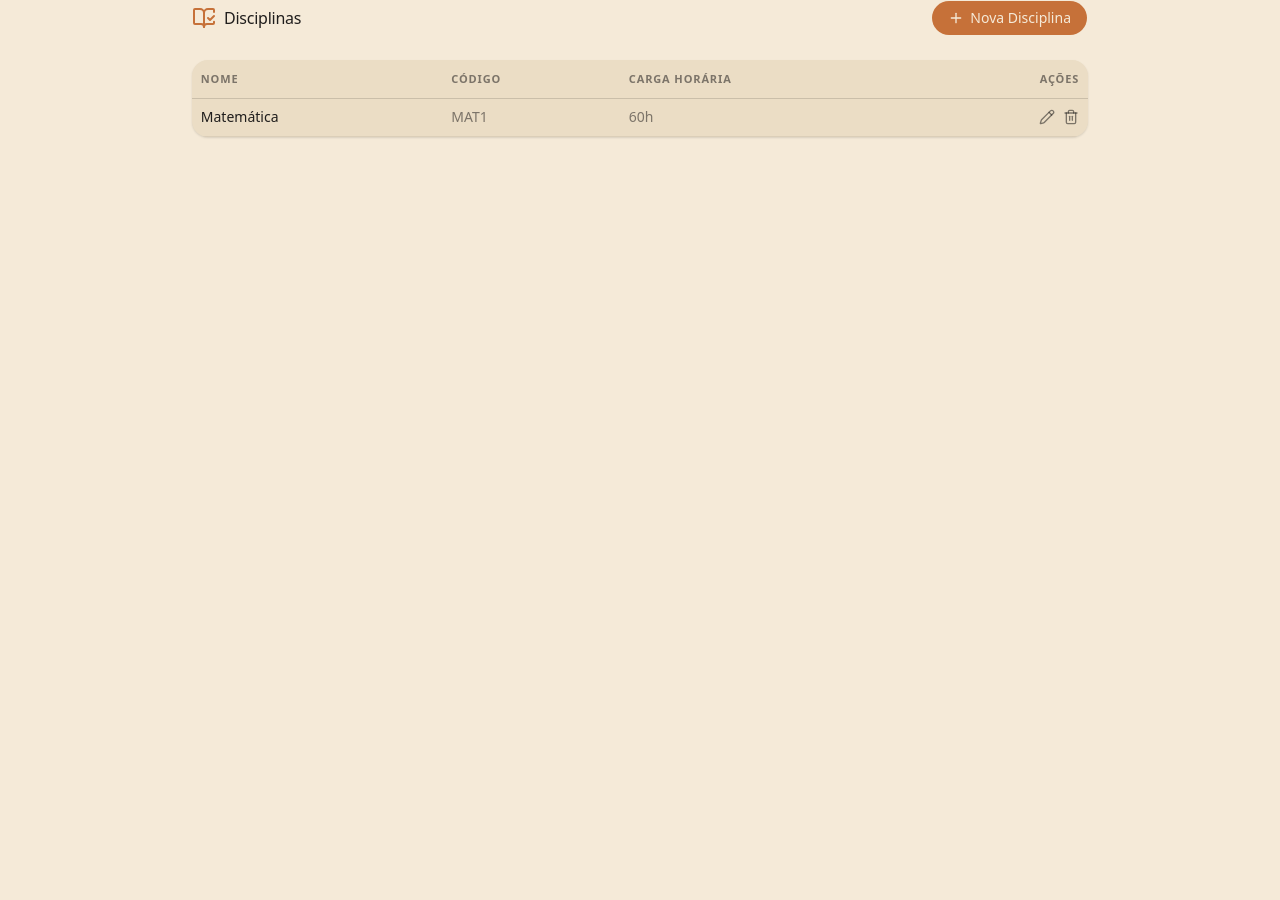
Test: SubjectListPage › keeps the delete dialog open showing why the API refused
Click the button named "Excluir". click: coordinates (1071, 117)
box: 1063,109 -> 1079,125
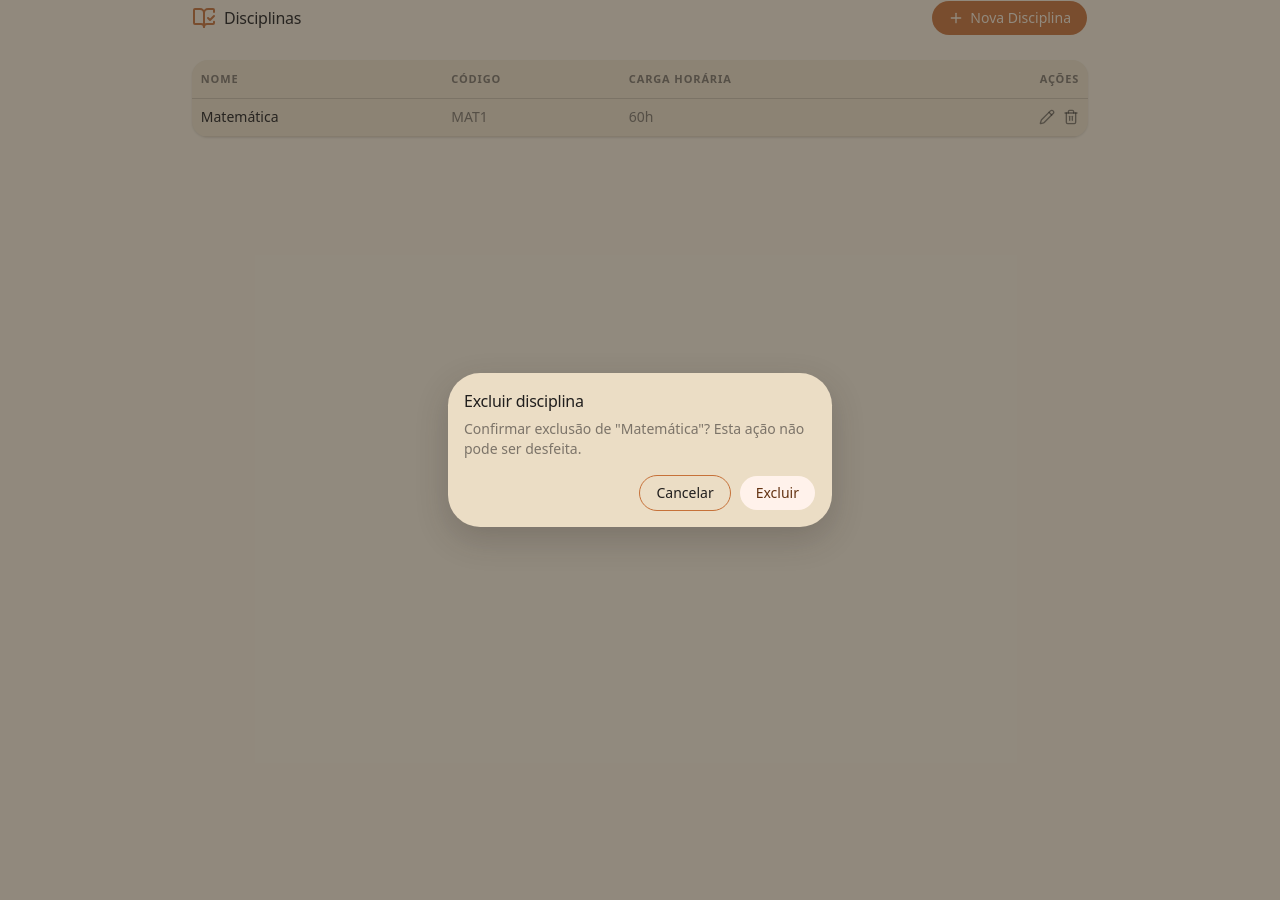
Click the button "Excluir". click: coordinates (777, 493)
box: 739,475 -> 816,511
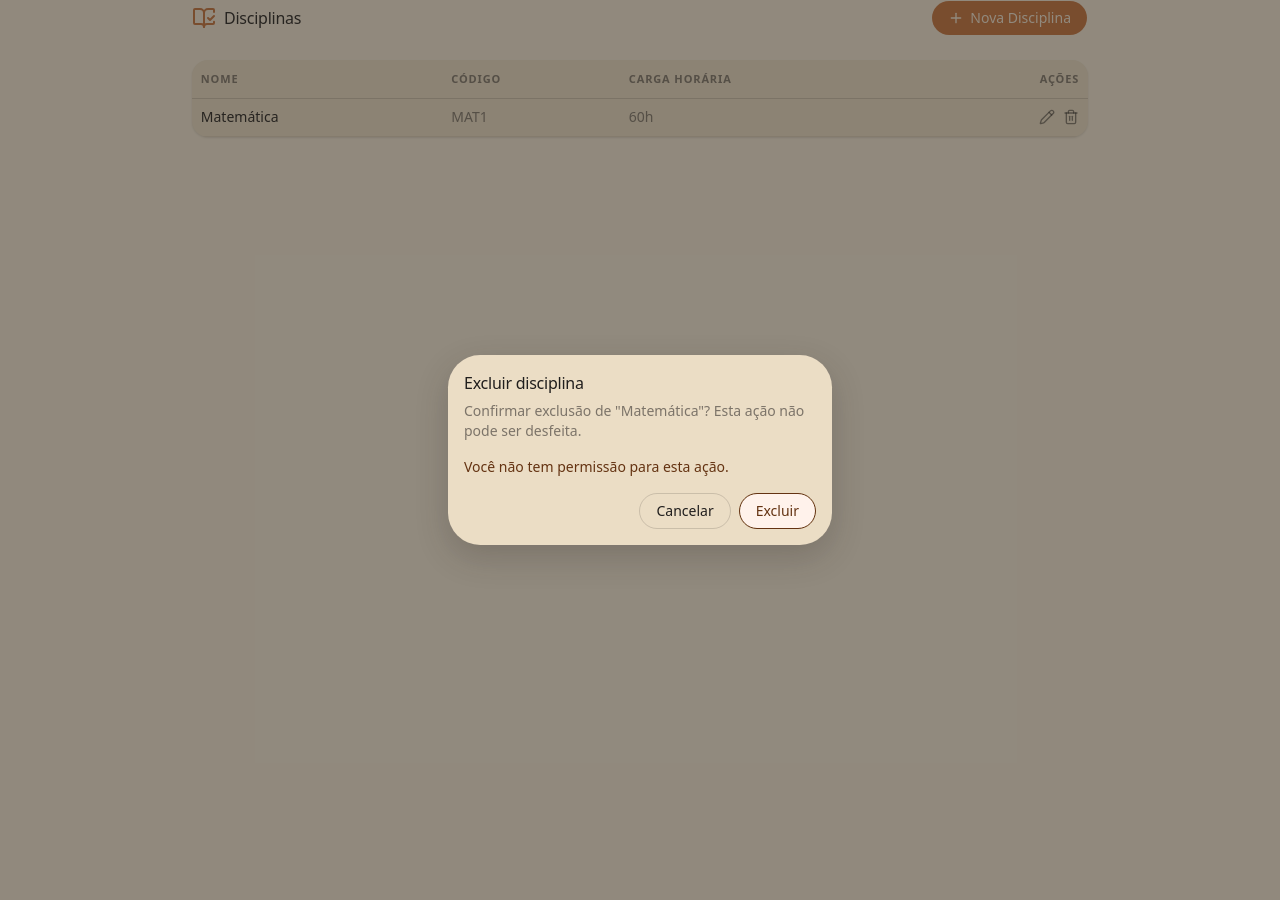
Check: the heading "Excluir disciplina" is shown, box 464,371 -> 584,395
Check: the message reads "Você não tem permissão para esta ação.", box 464,457 -> 729,476
